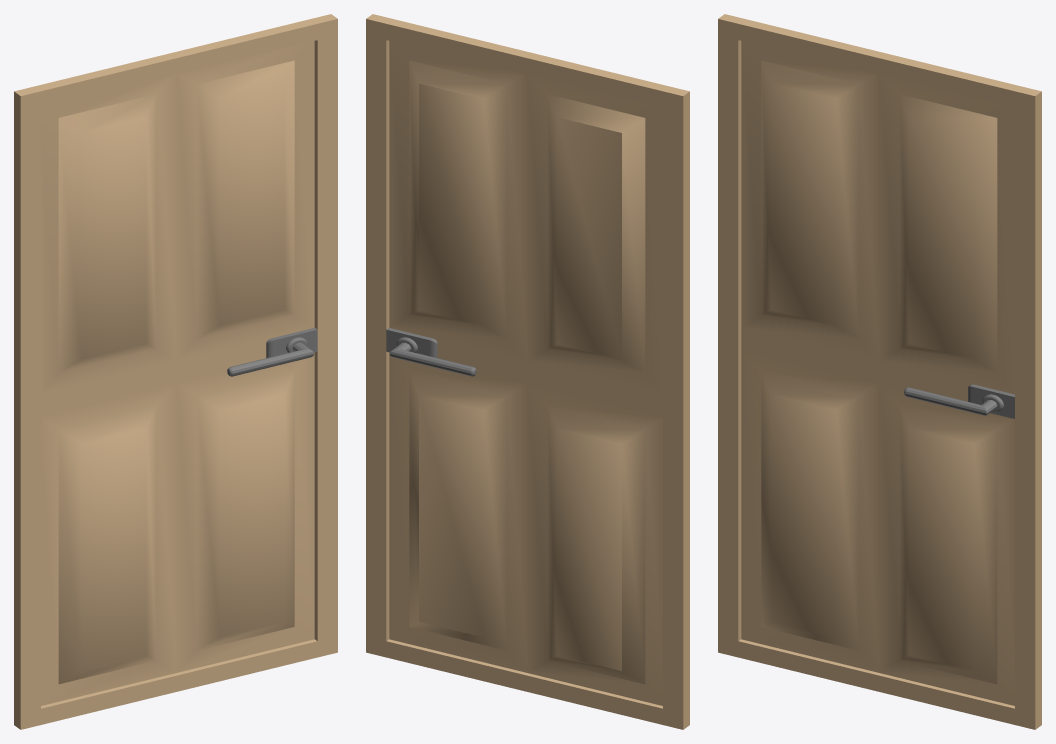
File: Porte_gamejam.fbx
The picture shows the model from 3 angles, left to right: view 1: azimuth 30°, elevation 25°; view 2: azimuth 150°, elevation 25°; view 3: azimuth 330°, elevation 25°; orthographic projection.
Parts seen in each view (by area): view 1: Porte.009; view 2: Porte.009; view 3: Porte.009.
Boxes of the visible parts, x1=… form: Porte.009: x1=14, y1=14, x2=337, y2=729; Porte.009: x1=366, y1=14, x2=689, y2=729; Porte.009: x1=718, y1=14, x2=1041, y2=729.
Bounding box in the file's own units: 110 × 210 × 19.13.
